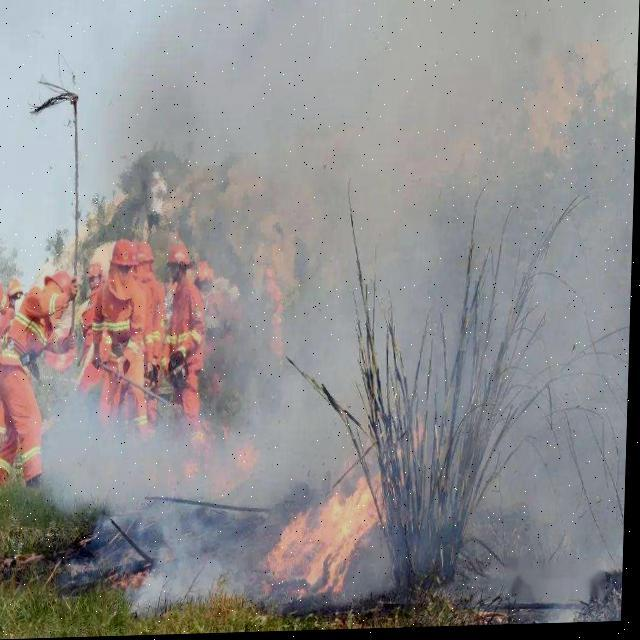Fire: (251, 417, 426, 606), (165, 426, 265, 506), (114, 559, 166, 593)
